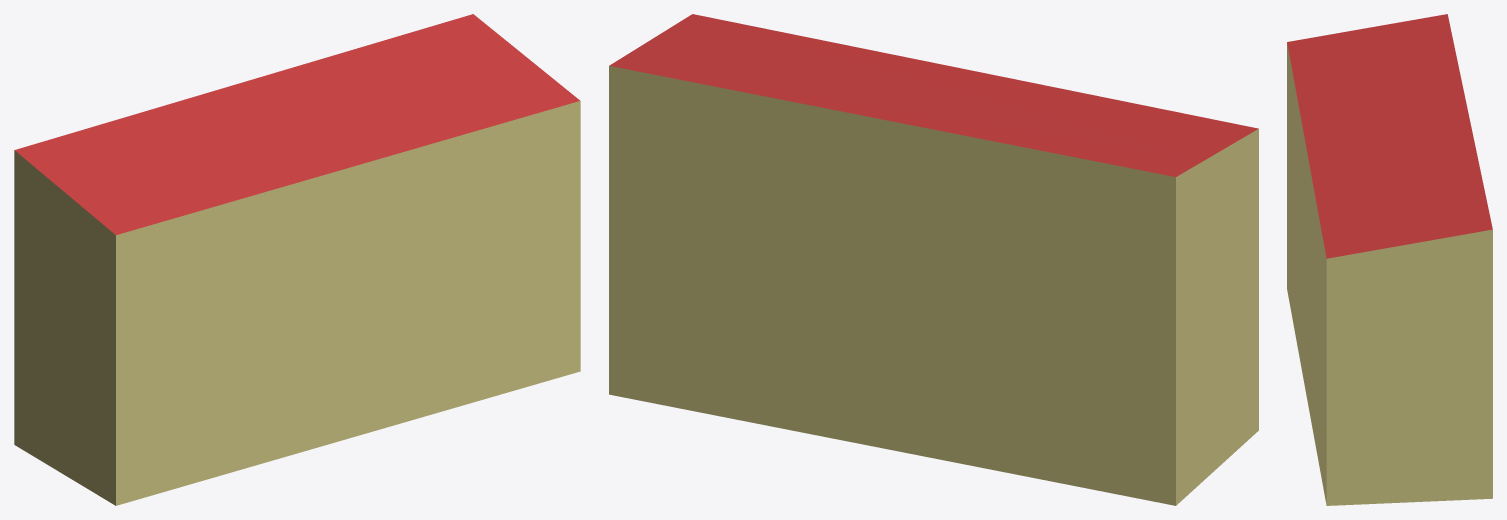
3 renders of one model, left to right at view 1: azimuth 30°, elevation 25°; view 2: azimuth 150°, elevation 25°; view 3: azimuth 270°, elevation 25°, orthographic. The views are drawn at different scales.
Size of the model in its own units: 11.14 by 4.35 by 6.28.
